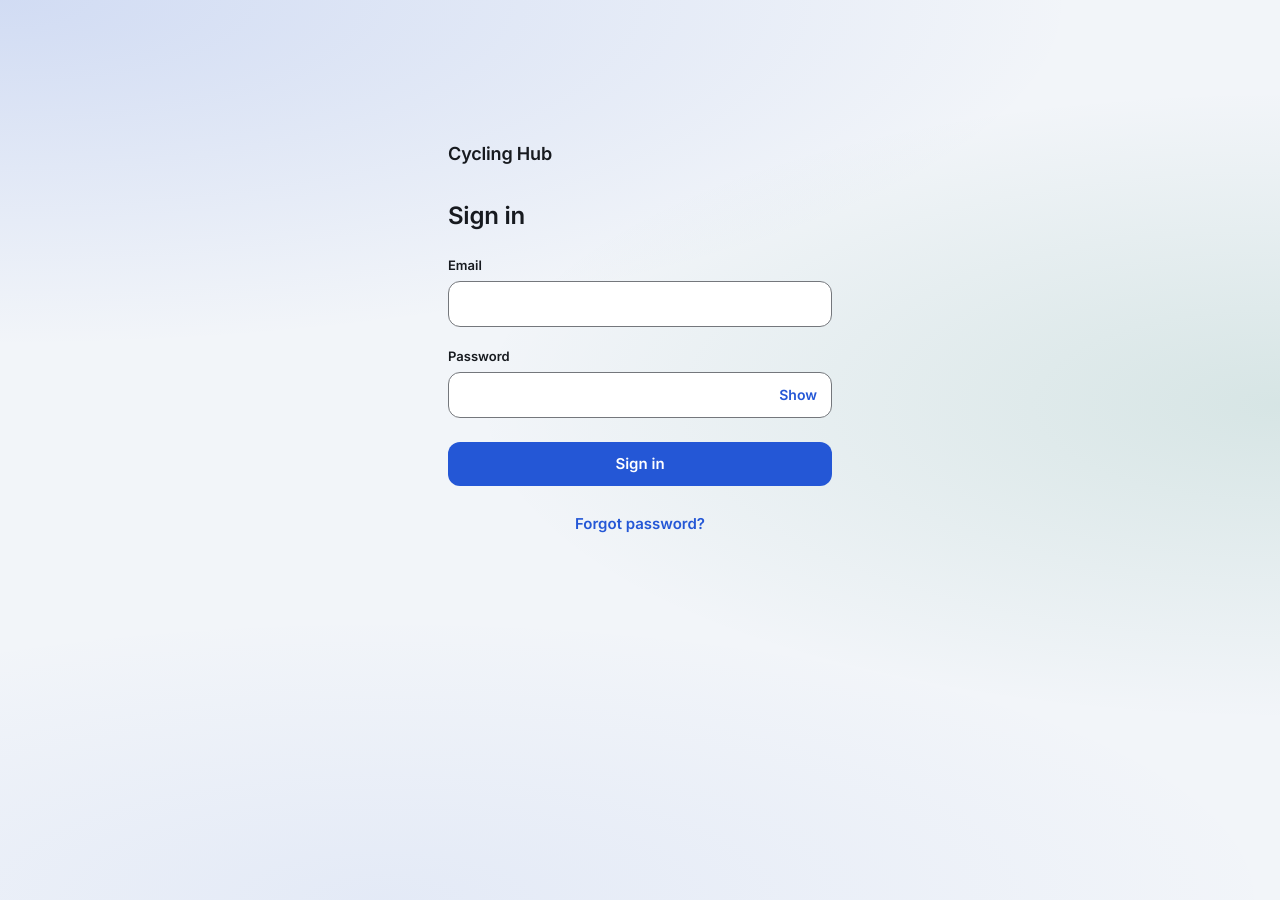
Test case: SignInPage › shows one generic error for wrong credentials, keeps the email and focuses the cleared password
This screenshot has width=1280, height=900.
Type "Rider@Test.invalid " into the field labelled "Email" at [640, 304], box [449,282,831,326]
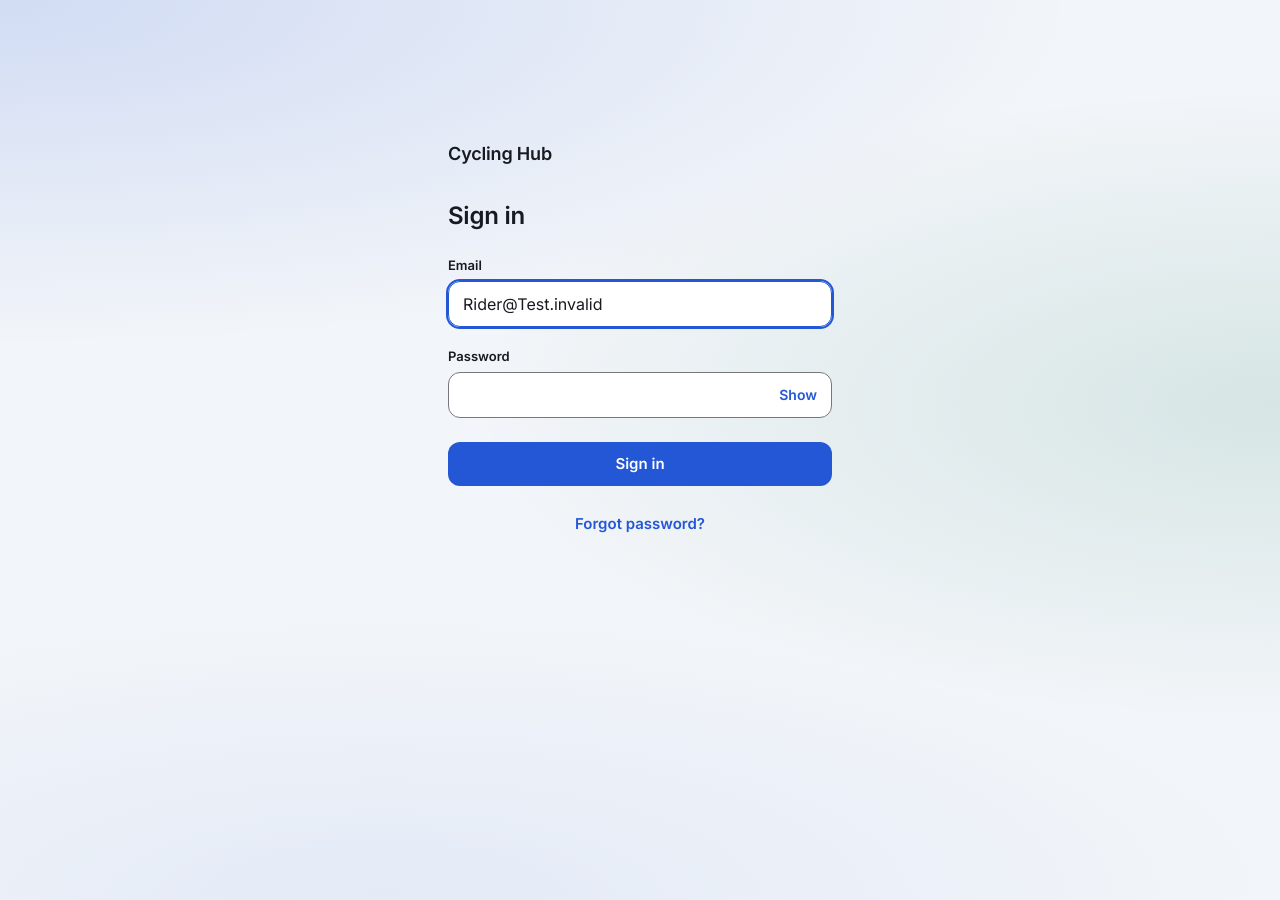
Type "wrong password" into the password field labelled "Password" at [609, 395], box [449,373,769,417]
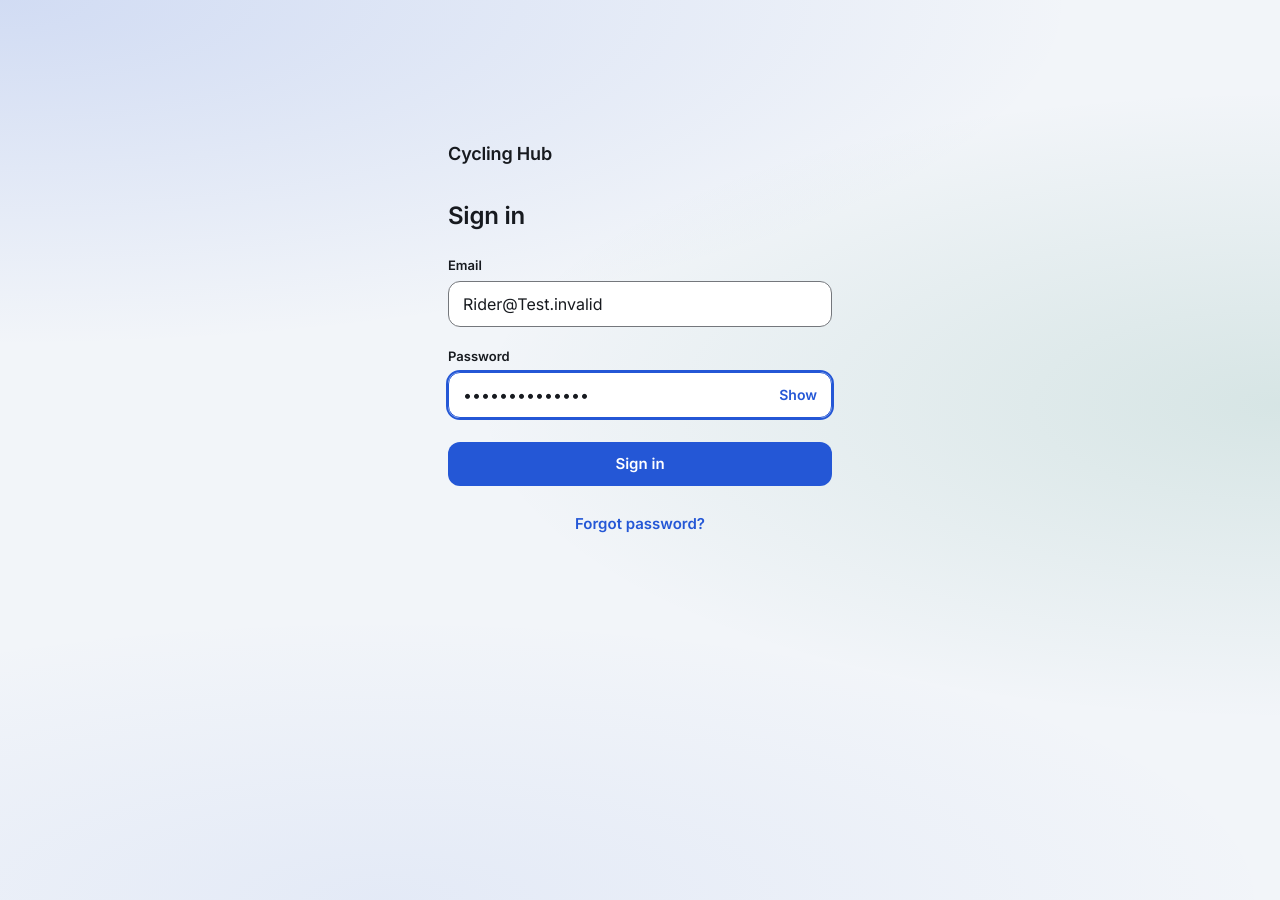
Click the button "Sign in" at [640, 464], box [448,442,832,486]
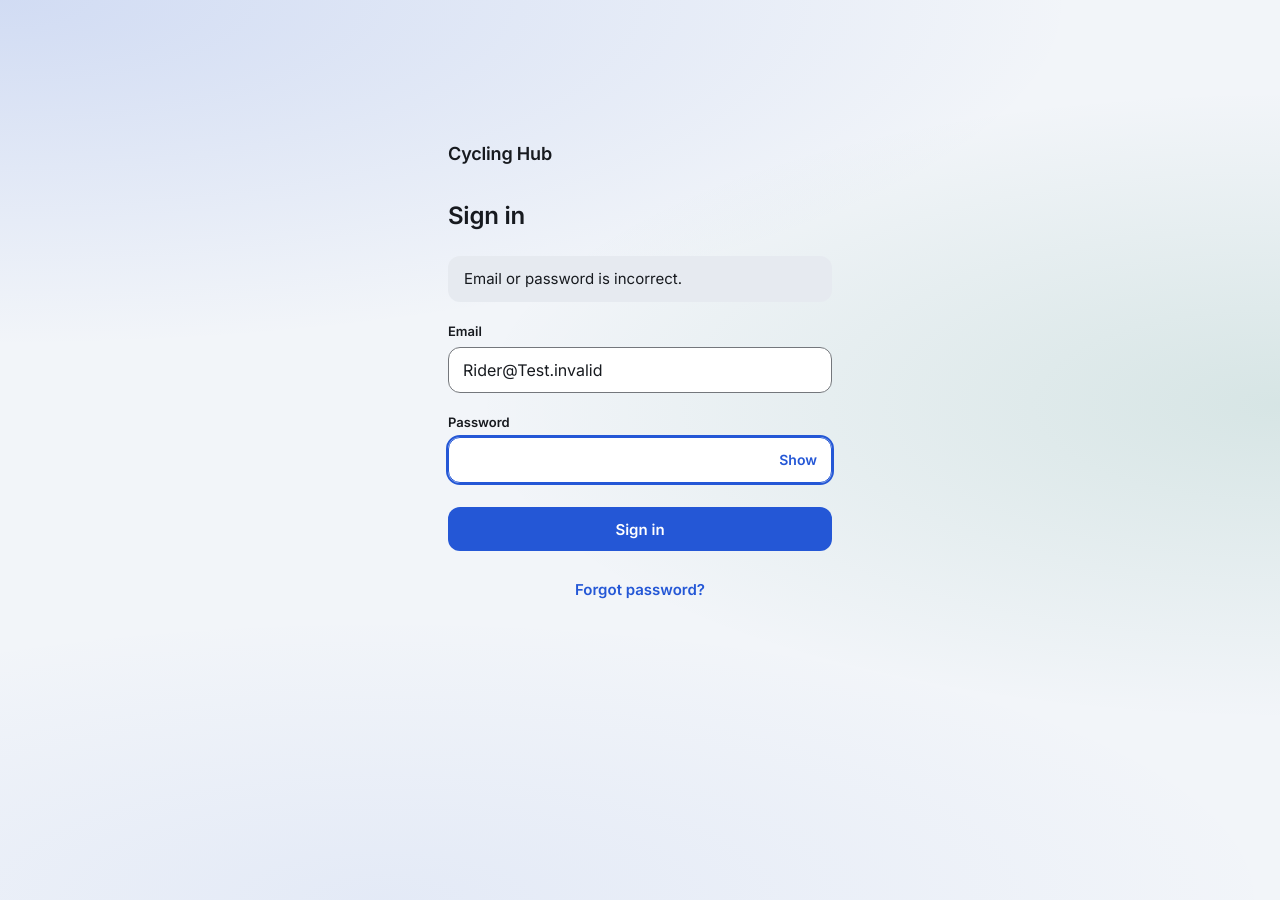
Check: the message reads "Email or password is incorrect.", box [464,269,682,288]
Check: the password field labelled "Password" is empty, box [449,438,769,482]
